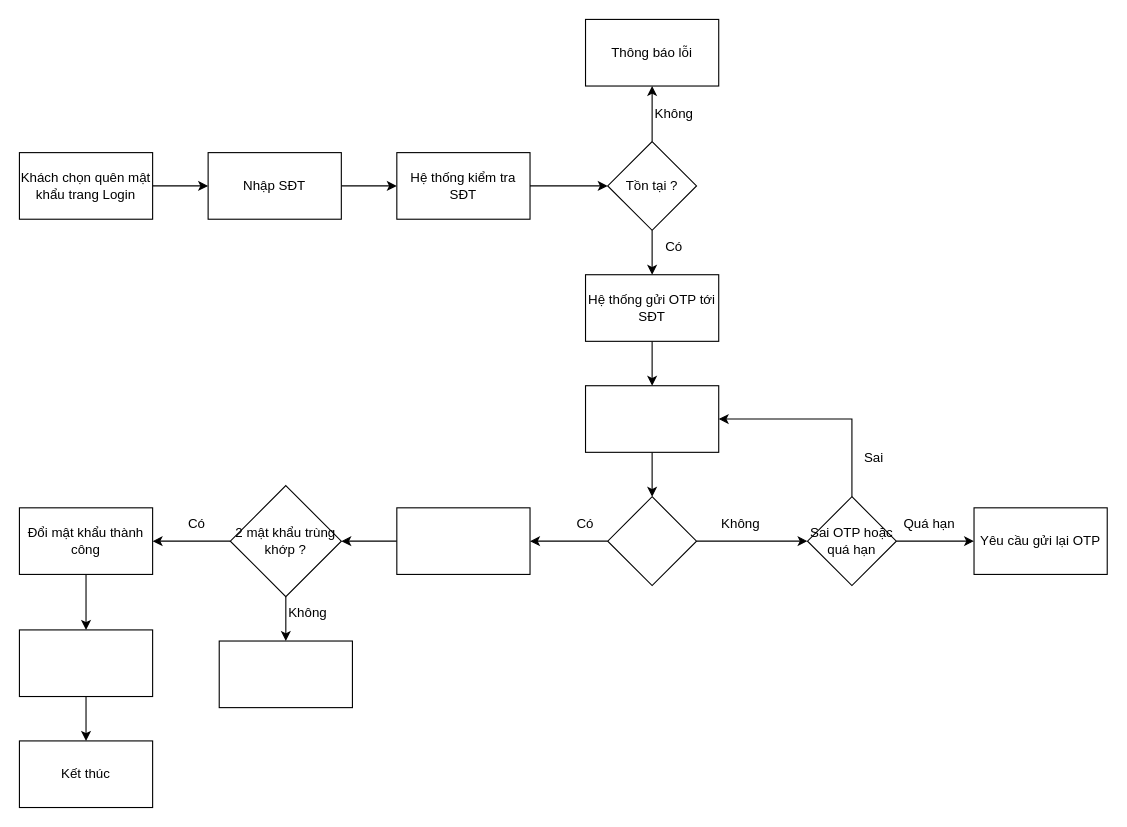
This 1127x827 diagram has some shape labels left out. The shapes that lost their labels are listed below. From the top down, each one's centre as x and y in pixels, then its label:
At (x=651, y=418): "Nhập OTP".
At (x=463, y=540): "Nhập mật khẩu và xác nhận mật khẩu".
At (x=652, y=541): "OTP hợp lệ?".
At (x=85, y=663): "Chuyển trang đăng nhập".
At (x=285, y=674): "Thông báo mật khẩu không khớp".
